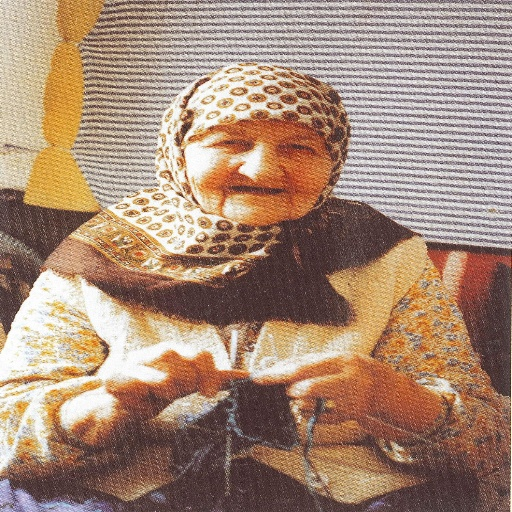hand: (251, 348, 449, 442), (101, 337, 250, 423)
